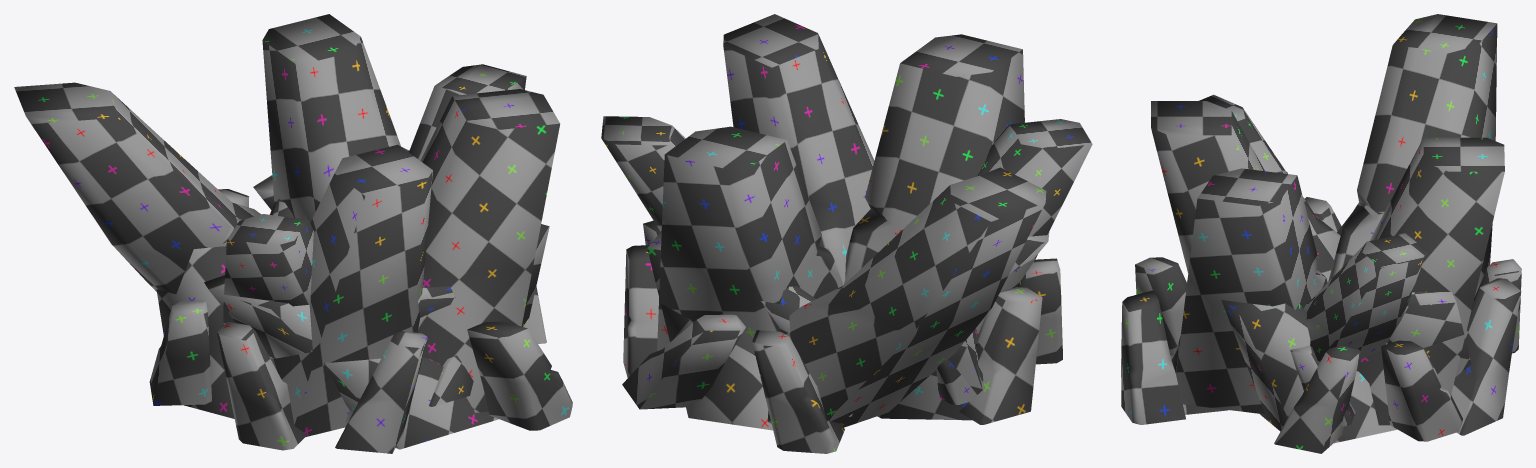
The model's file is Rock_Hit_Charge.glb.
3 views of the same model, side by side, from view 1: azimuth 30°, elevation 25°; view 2: azimuth 150°, elevation 25°; view 3: azimuth 270°, elevation 25° (orthographic). The views are drawn at different scales.
Visible parts, largest first — view 1: Rock.4, Rock.1, Rock.2, Rock.5, Rock.3, Rock.6; view 2: Rock.4, Rock.5, Rock.2, Rock.1, Rock.6, Rock.3; view 3: Rock.4, Rock.1, Rock.2, Rock.5, Rock.6, Rock.3.
Part boxes in pixels (box(x1,y1,x2,y2)): Rock.4: box(14, 82, 572, 449); Rock.1: box(218, 89, 560, 453); Rock.2: box(149, 144, 549, 436); Rock.5: box(156, 14, 546, 450); Rock.3: box(223, 214, 456, 325); Rock.6: box(270, 64, 526, 406); Rock.4: box(622, 167, 1049, 427); Rock.5: box(643, 126, 1062, 420); Rock.2: box(623, 34, 1042, 424); Rock.1: box(647, 14, 874, 453); Rock.6: box(601, 116, 983, 404); Rock.3: box(849, 119, 1092, 416); Rock.4: box(1121, 14, 1521, 435); Rock.1: box(1135, 168, 1521, 414); Rock.2: box(1151, 101, 1462, 443); Rock.5: box(1274, 137, 1504, 453); Rock.6: box(1177, 233, 1426, 361); Rock.3: box(1199, 94, 1355, 426).
Size of the model in its own units: 3.07 by 1.74 by 2.51.
Materials: 1 (1 with a texture image).
